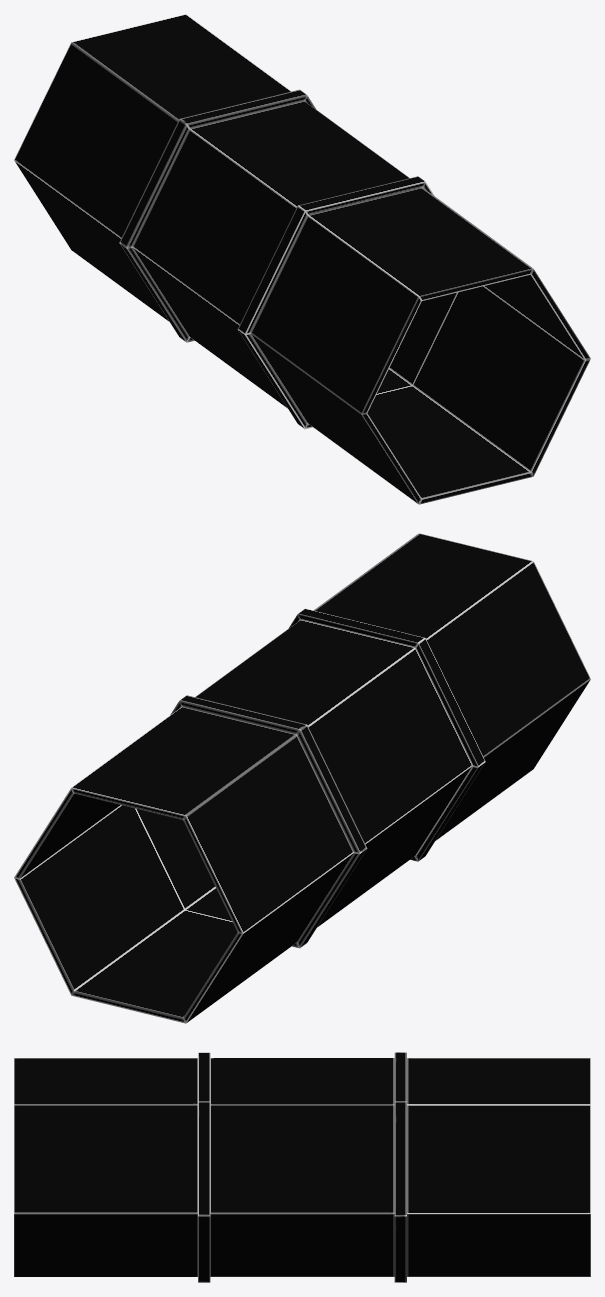
3 views of the same model, one above another, from view 1: azimuth 30°, elevation 25°; view 2: azimuth 150°, elevation 25°; view 3: azimuth 270°, elevation 25° (orthographic). The views are drawn at different scales.
Parts seen in each view (by area): view 1: DD_18; view 2: DD_18; view 3: DD_18.
Part boxes in pixels (<box>): DD_18: <box>14,14,590,504</box>; DD_18: <box>14,533,590,1023</box>; DD_18: <box>14,1052,590,1282</box>.
Size of the model in its own units: 2000 by 1733 by 5000.
1 material, 1 textured.
